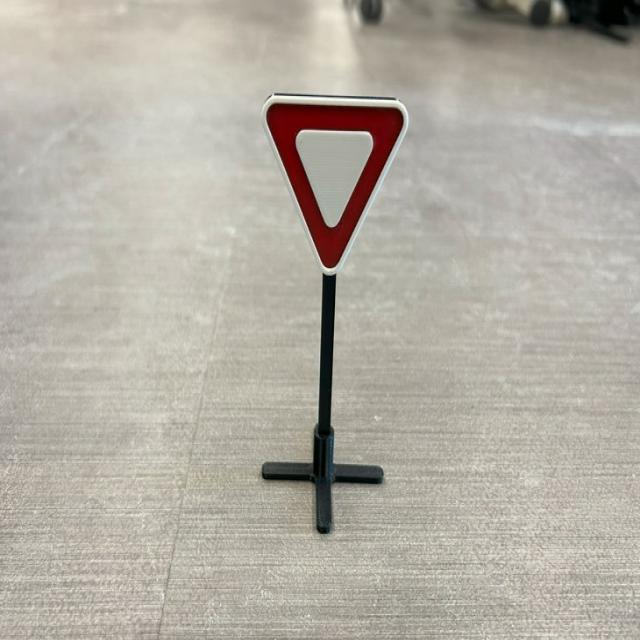sign_yield: (249, 65, 418, 298)
